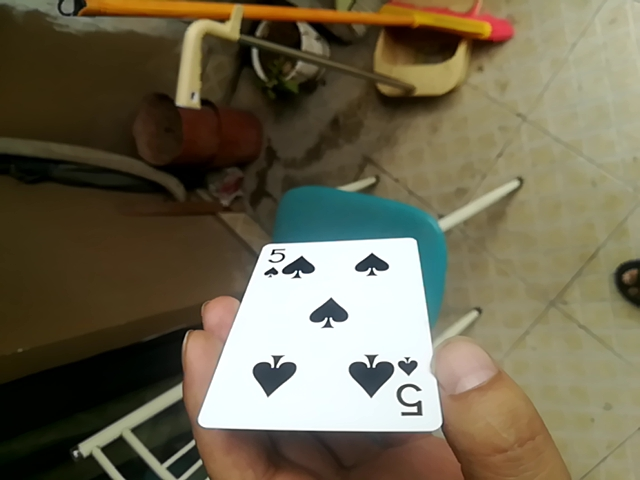ht 5: (192, 232, 435, 433)
